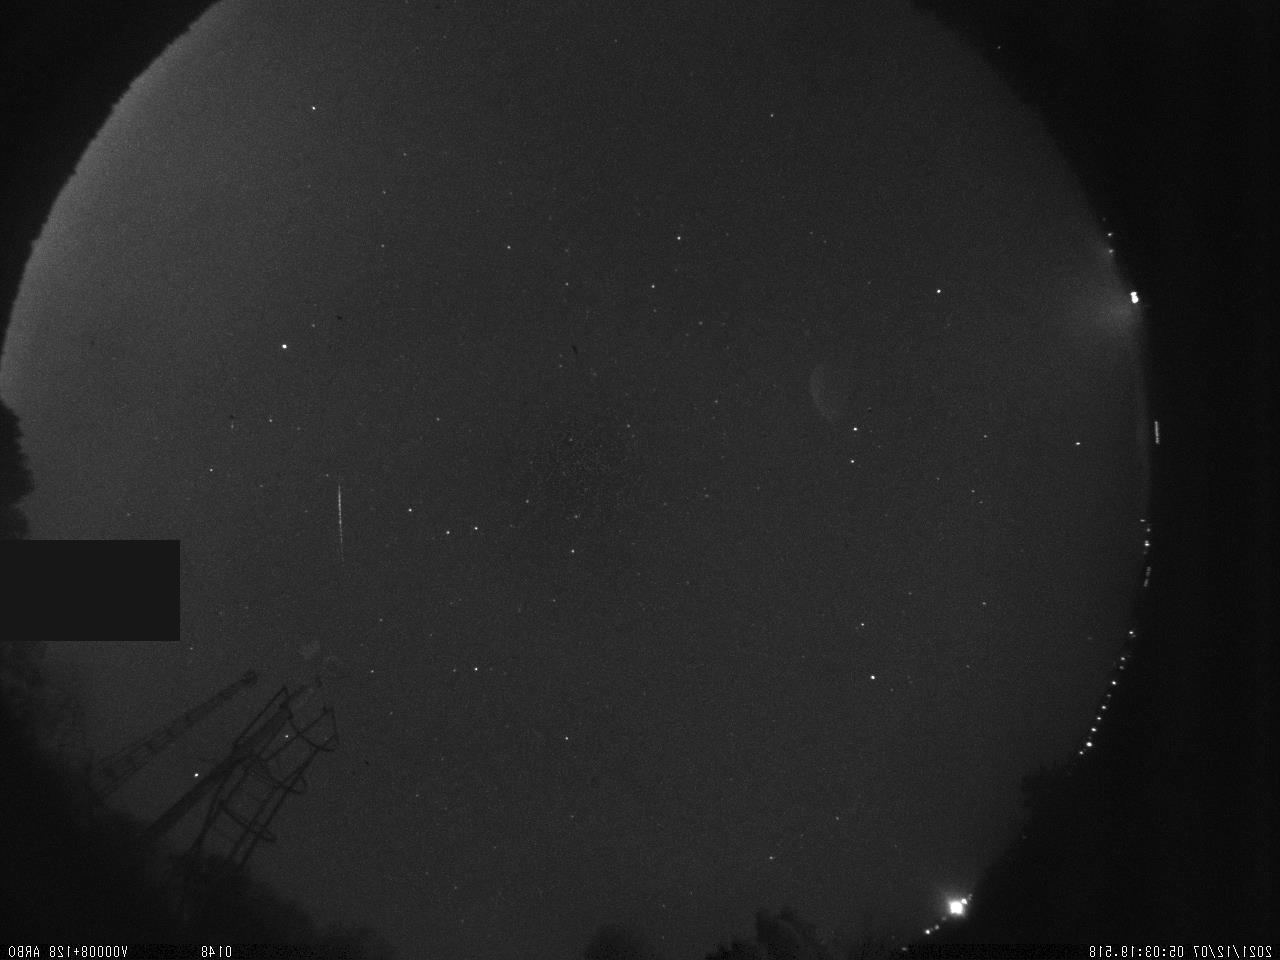meteor: (305, 469, 371, 579)
